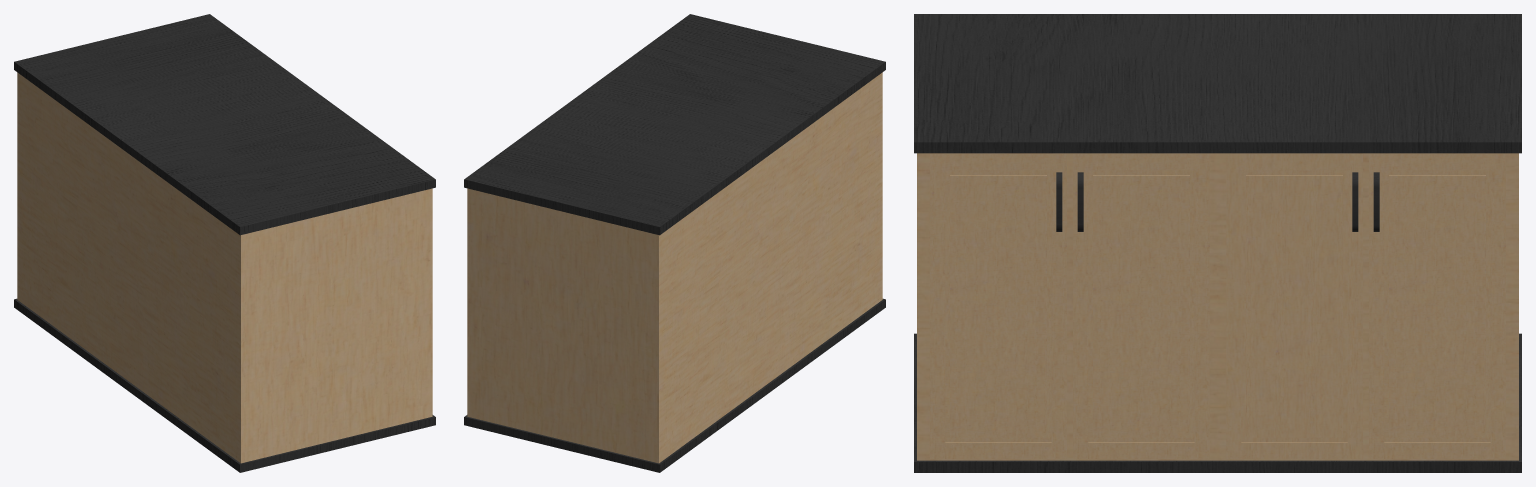
File: double_stand.glb
The picture shows the model from 3 angles, left to right: view 1: azimuth 30°, elevation 25°; view 2: azimuth 150°, elevation 25°; view 3: azimuth 270°, elevation 25°; orthographic projection. The views are drawn at different scales.
Visible parts, largest first — view 1: double_stand; view 2: double_stand; view 3: double_stand, hatch_1, hatch_2, hatch_3, hatch_4.
Boxes of the visible parts, <box> form: double_stand: <box>14,14,435,472</box>; double_stand: <box>464,14,885,472</box>; double_stand: <box>914,14,1521,472</box>; hatch_1: <box>930,154,1066,458</box>; hatch_2: <box>1073,154,1209,458</box>; hatch_3: <box>1226,154,1362,458</box>; hatch_4: <box>1369,154,1505,458</box>.
Bounding box in the file's own units: 1.02 × 1.2 × 2.
2 materials, 2 textured.
